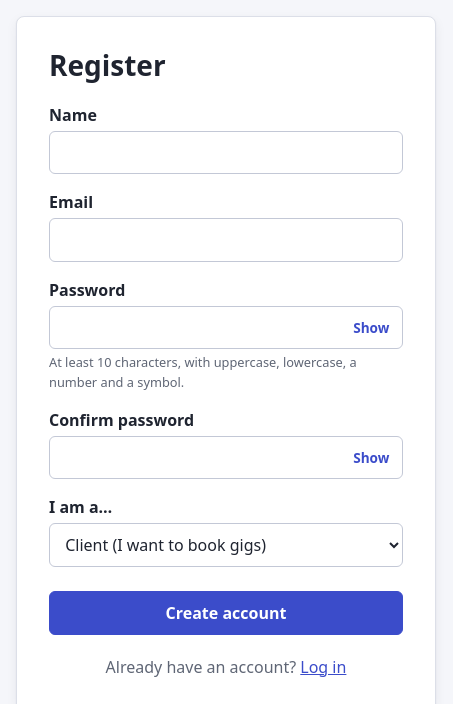
Scenario: Register page › renders field-level validation errors returned by the backend
In the field labelled "Name": (226, 152) [49, 131, 403, 174], type "Thabo Mokoena"
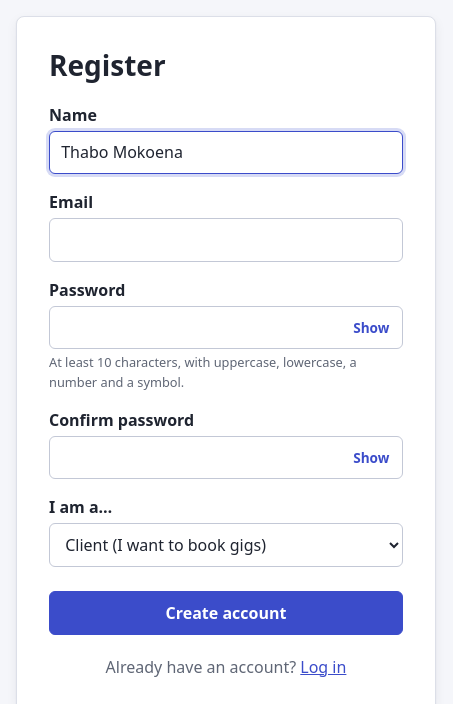
In the field labelled "Email": (226, 240) [49, 218, 403, 262], type "thabo@example.com"
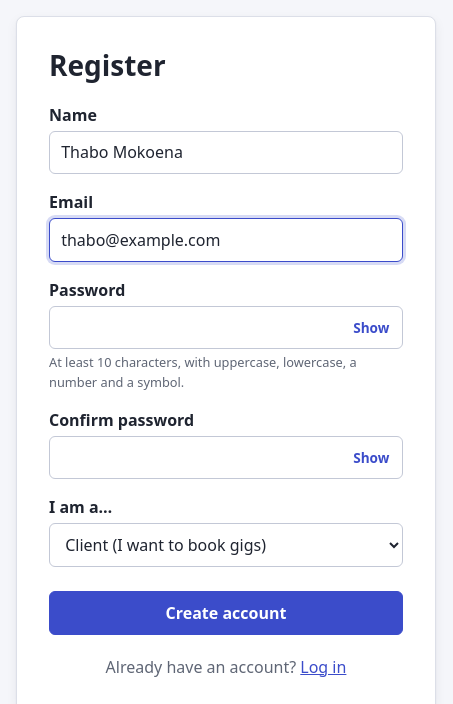
In the password field labelled "Password": (226, 328) [49, 306, 403, 349], type "weak"
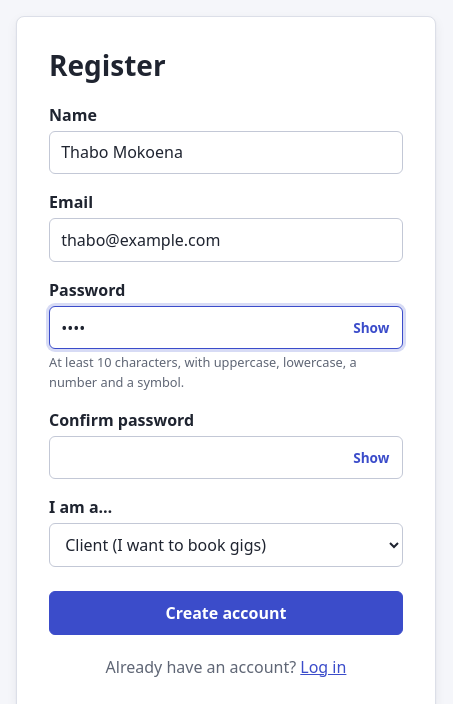
In the password field labelled "Confirm password": (226, 458) [49, 436, 403, 479], type "weak"
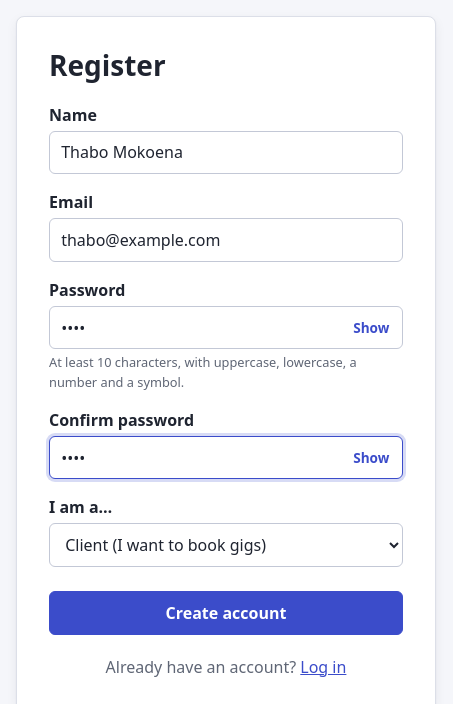
Click the button "Create account": (226, 613) [49, 591, 403, 634]
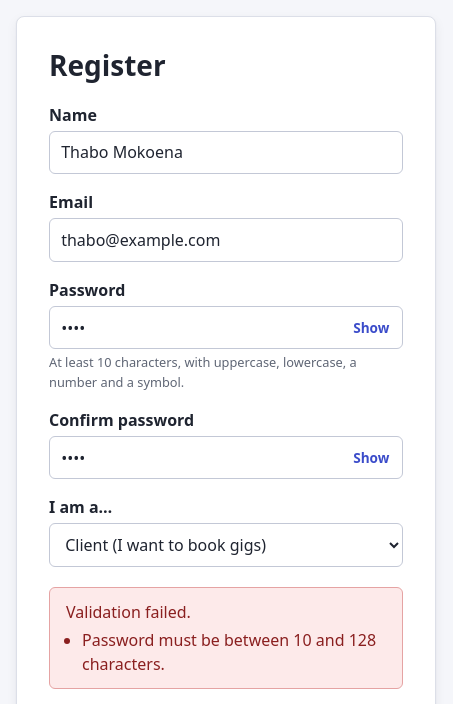
Expected: the list item "Password must be between 10 and 128 characters." is shown, [82, 628, 386, 676]
